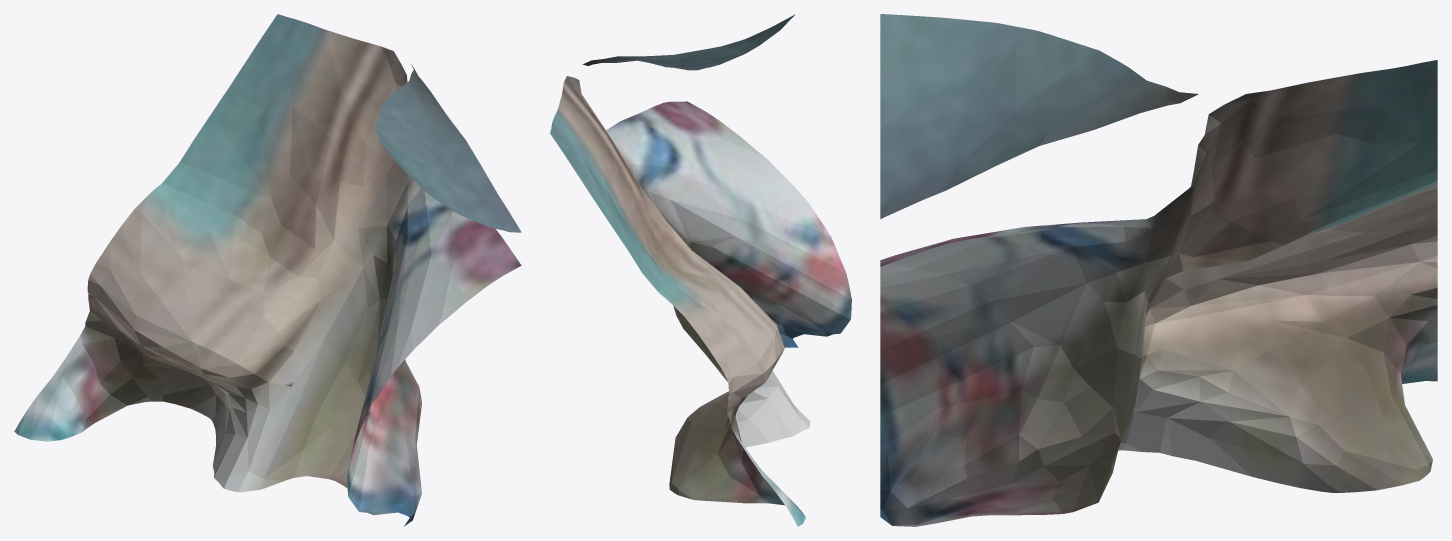
3 renders of one model, left to right at view 1: azimuth 30°, elevation 25°; view 2: azimuth 150°, elevation 25°; view 3: azimuth 270°, elevation 25°, orthographic. The views are drawn at different scales.
Visible parts, largest first — view 1: 091_W_Aya_100K_01; view 2: 091_W_Aya_100K_01; view 3: 091_W_Aya_100K_01.
Part boxes in pixels (x1,y1,x2,y2): 091_W_Aya_100K_01: [14, 14, 521, 526]; 091_W_Aya_100K_01: [550, 14, 851, 526]; 091_W_Aya_100K_01: [880, 14, 1437, 526].
Size of the model in its own units: 39.71 by 42.87 by 42.87.
1 material, 1 textured.
